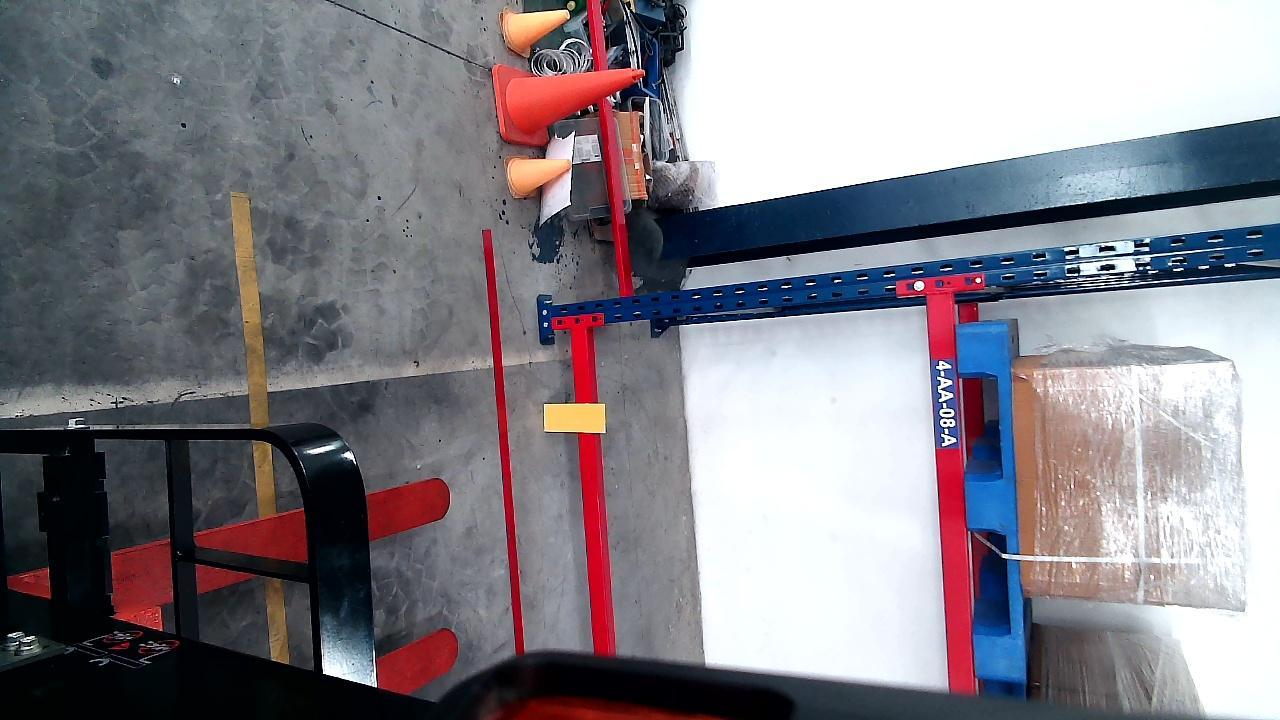red_line: (481, 230, 528, 650)
yellow_line: (224, 187, 291, 664)
